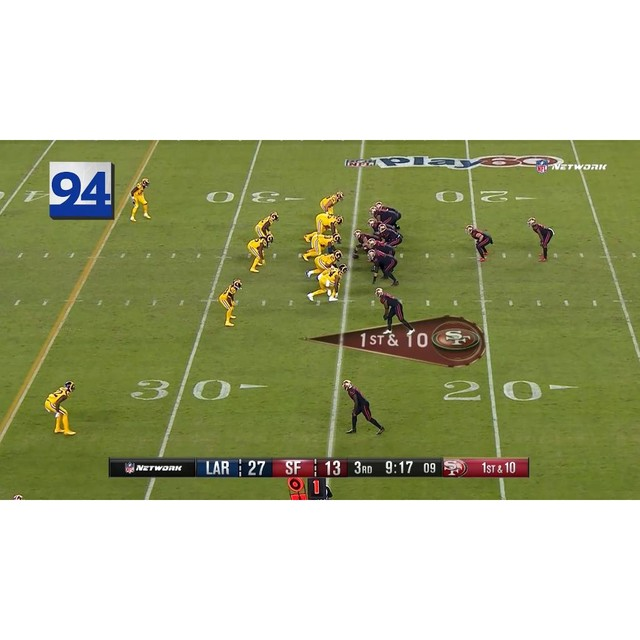american-football-player: (342, 380, 385, 435), (375, 287, 414, 335), (45, 382, 76, 437), (306, 263, 348, 303), (366, 248, 399, 286), (219, 279, 244, 328), (528, 215, 554, 262), (304, 249, 342, 280), (303, 213, 343, 242), (300, 234, 341, 261), (466, 223, 493, 262), (248, 233, 273, 273), (351, 229, 383, 259), (130, 178, 151, 221), (371, 206, 402, 229), (256, 211, 279, 242), (320, 191, 344, 217)
